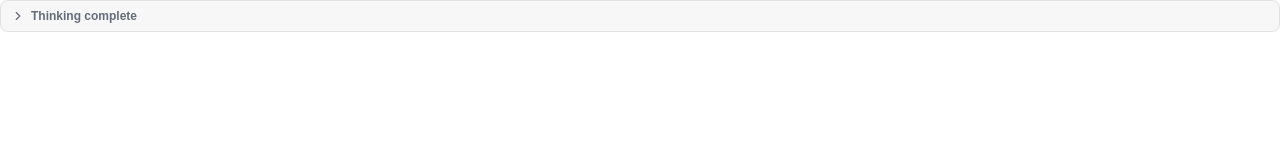
it: ThinkingSteps › reads a finished step in the past tense, ignoring the stale running-tense server prose
The width and height of the screenshot is (1280, 160).
Click the button at (84,16), box [11,7,1269,25]
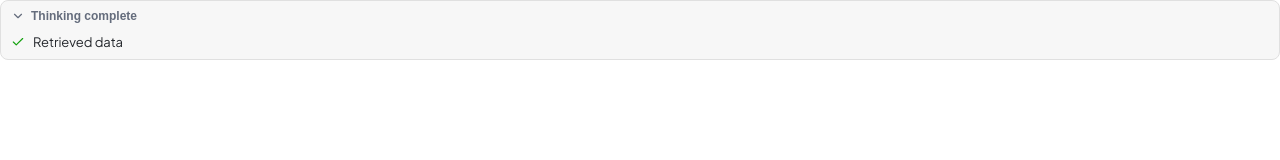
Expected: the text "Retrieved data" is shown, [11,34,123,50]
